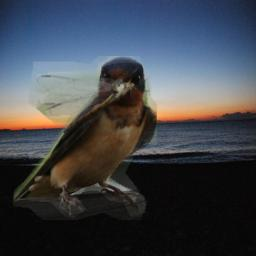Swallow: (13, 56, 157, 220)
